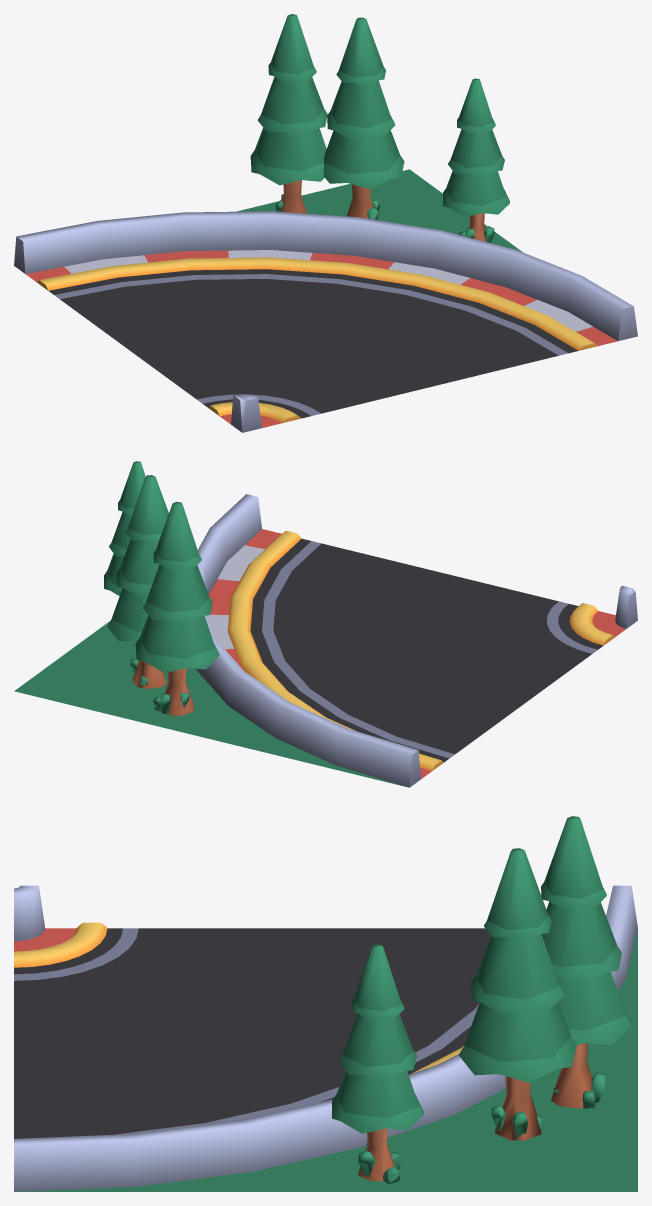
File: track-corner.glb
The picture shows the model from 3 angles, top to bottom: view 1: azimuth 30°, elevation 25°; view 2: azimuth 150°, elevation 25°; view 3: azimuth 270°, elevation 25°; orthographic projection. The views are drawn at different scales.
Visible parts, largest first — view 1: track-corner, tree.2, tree.3, tree.1; view 2: track-corner, tree.3, tree.2, tree.1; view 3: track-corner, tree.2, tree.3, tree.1.
Part boxes in pixels (x1=…): track-corner: x1=14, y1=169, x2=637, y2=432; tree.2: x1=323, y1=17, x2=404, y2=220; tree.3: x1=250, y1=14, x2=327, y2=213; tree.1: x1=443, y1=78, x2=509, y2=242; track-corner: x1=14, y1=494, x2=637, y2=787; tree.3: x1=135, y1=501, x2=219, y2=715; tree.2: x1=107, y1=475, x2=168, y2=688; tree.1: x1=104, y1=461, x2=145, y2=595; track-corner: x1=14, y1=885, x2=637, y2=1191; tree.2: x1=459, y1=848, x2=576, y2=1140; tree.3: x1=541, y1=816, x2=631, y2=1108; tree.1: x1=332, y1=944, x2=423, y2=1183.
Bounding box in the file's own units: 10.06 × 4.94 × 10.
Materials: 1 (1 with a texture image).
